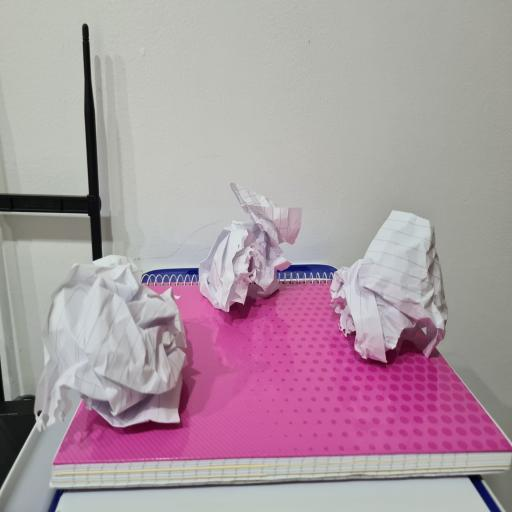Kertas: (45, 254, 180, 419), (336, 213, 442, 352), (194, 198, 304, 304)
